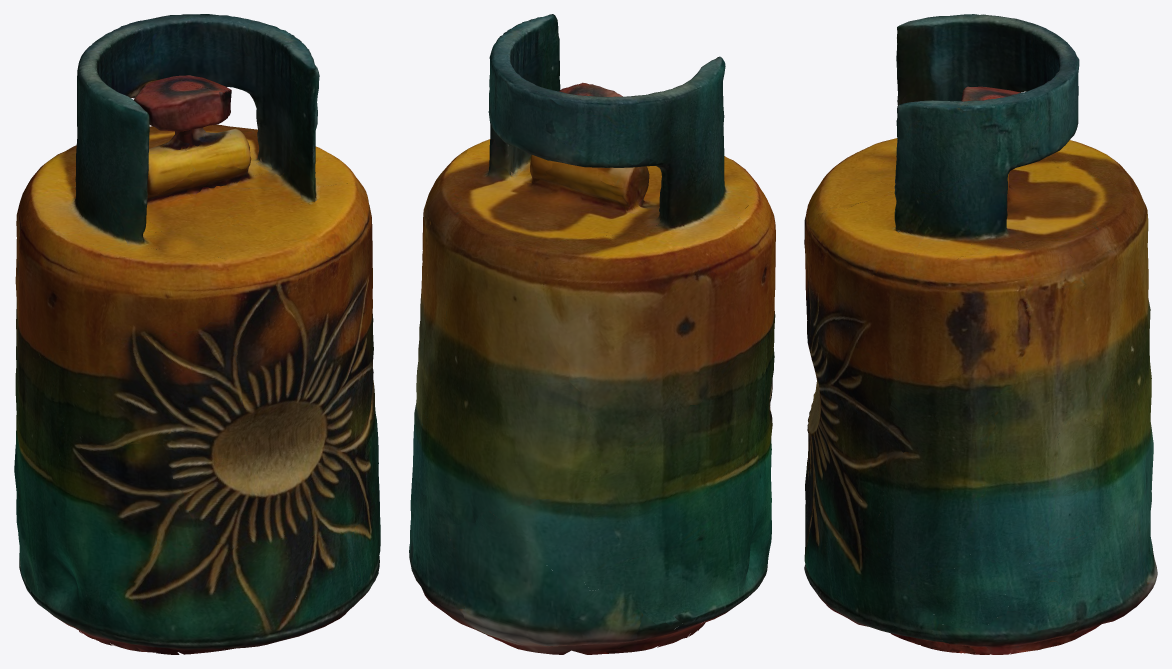
File: jarron1.glb
3 views of the same model, side by side, from view 1: azimuth 30°, elevation 25°; view 2: azimuth 150°, elevation 25°; view 3: azimuth 270°, elevation 25° (orthographic). The views are drawn at different scales.
Visible parts, largest first — view 1: Mesh_0; view 2: Mesh_0; view 3: Mesh_0.
Boxes of the visible parts, <box> form: Mesh_0: <box>14,14,380,654</box>; Mesh_0: <box>409,14,775,654</box>; Mesh_0: <box>804,14,1157,654</box>.
Bounding box in the file's own units: 0.6881 × 1.12 × 0.6614.
1 material, 1 textured.
